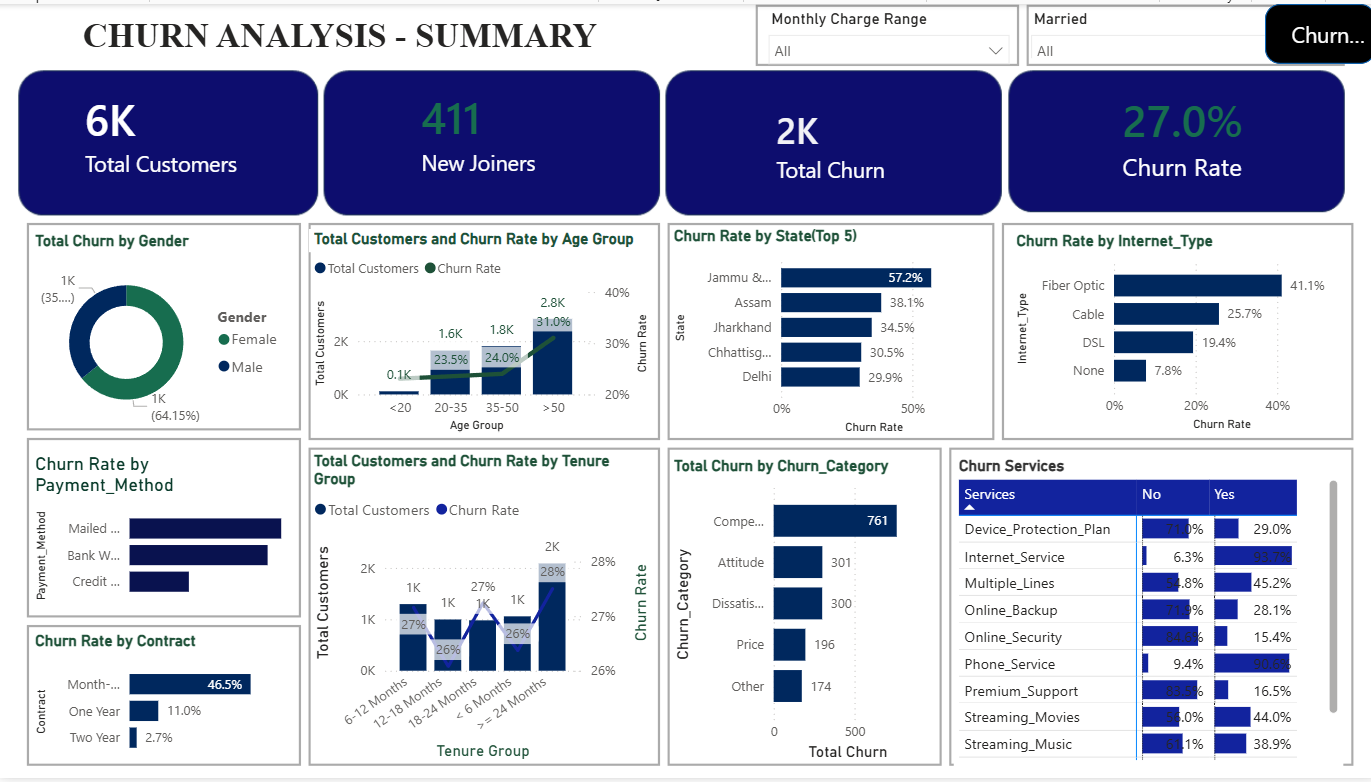

This screenshot's page, from the dashboard's own definition file:
{"tool":"powerbi","page":{"name":"Summary","canvas":[1280,720],"ordinal":0},"visuals":[{"type":"cardVisual","fields":{"Data":["tbl_Measures.Total Customers"]},"box":[50,60,223.3,120],"z":0},{"type":"cardVisual","fields":{"Data":["tbl_Measures.New Joiners"]},"box":[363.3,33.3,231.7,170],"z":1000},{"type":"cardVisual","fields":{"Data":["tbl_Measures.Total Churn"]},"box":[693.3,45,266.7,170],"z":2000},{"type":"cardVisual","fields":{"Data":["tbl_Measures.Churn Rate"]},"box":[1015,50,260,145],"z":3000},{"type":"donutChart","fields":{"Category":["prod_Churn.Gender"],"Y":["tbl_Measures.Total Churn"]},"box":[28.2,211.3,245.4,189.9],"z":4000},{"type":"lineStackedColumnComboChart","fields":{"Category":["mapping_AgeGrp.Age Group"],"Y":["tbl_Measures.Total Customers"],"Y2":["tbl_Measures.Churn Rate"]},"box":[287.8,208.9,321.7,193.9],"z":5000},{"type":"clusteredBarChart","fields":{"Category":["prod_Churn.Contract"],"Y":["tbl_Measures.Churn Rate"]},"box":[28.2,583.6,248.7,124.4],"z":6000},{"type":"lineStackedColumnComboChart","fields":{"Category":["mapping_TenureGrp.Tenure Group"],"Y":["tbl_Measures.Total Customers"],"Y2":["tbl_Measures.Churn Rate"]},"box":[287.8,416.7,321.7,291.7],"z":7000},{"type":"clusteredBarChart","title":"Churn Rate by State(Top 5)","fields":{"Category":["prod_Churn.State"],"Y":["tbl_Measures.Churn Rate"]},"box":[622.2,207.2,295,197.8],"z":8000},{"type":"clusteredBarChart","fields":{"Category":["prod_Churn.Churn_Category"],"Y":["tbl_Measures.Total Churn"]},"box":[622.2,420.6,251.1,287.8],"z":9000},{"type":"clusteredBarChart","fields":{"Category":["prod_Churn.Internet_Type"],"Y":["tbl_Measures.Churn Rate"]},"box":[941.1,211.1,313.9,190],"z":10000},{"type":"pivotTable","title":"Churn Services","fields":{"Rows":["prod_Services.Services"],"Columns":["prod_Services.Status"],"Values":["Sum(prod_Services.Churn Status)"]},"box":[887.2,420.6,362.8,287.8],"z":11000},{"type":"slicer","fields":{"Values":["prod_Churn.Monthly Charge Status"]},"box":[704.3,0,244.3,60],"z":12000},{"type":"slicer","fields":{"Values":["prod_Churn.Married"]},"box":[949.2,0,296.9,50],"z":13000},{"type":"textbox","box":[72,5.3,661.3,50.7],"z":14000},{"type":"shape","box":[1177.1,0,102.9,55.7],"z":15000},{"type":"clusteredBarChart","fields":{"Category":["prod_Churn.Payment_Method"],"Y":["tbl_Measures.Churn Rate"]},"box":[27.4,417.2,247,145.5],"z":16000}]}

Visuals, with their boxes in screenshot pixels (x1, y1, x2, y2), scaled from the page's 1280x720 canvas onto the 1371x782 screenshot:
cardVisual - tbl_Measures.Total Customers: x1=54 y1=65 x2=293 y2=195
cardVisual - tbl_Measures.New Joiners: x1=389 y1=36 x2=637 y2=221
cardVisual - tbl_Measures.Total Churn: x1=743 y1=49 x2=1028 y2=234
cardVisual - tbl_Measures.Churn Rate: x1=1087 y1=54 x2=1366 y2=212
donutChart - prod_Churn.Gender x tbl_Measures.Total Churn: x1=30 y1=229 x2=293 y2=436
lineStackedColumnComboChart - mapping_AgeGrp.Age Group x tbl_Measures.Total Customers: x1=308 y1=227 x2=653 y2=437
clusteredBarChart - prod_Churn.Contract x tbl_Measures.Churn Rate: x1=30 y1=634 x2=297 y2=769
lineStackedColumnComboChart - mapping_TenureGrp.Tenure Group x tbl_Measures.Total Customers: x1=308 y1=453 x2=653 y2=769
"Churn Rate by State(Top 5)" clusteredBarChart: x1=666 y1=225 x2=982 y2=440
clusteredBarChart - prod_Churn.Churn_Category x tbl_Measures.Total Churn: x1=666 y1=457 x2=935 y2=769
clusteredBarChart - prod_Churn.Internet_Type x tbl_Measures.Churn Rate: x1=1008 y1=229 x2=1344 y2=436
"Churn Services" pivotTable: x1=950 y1=457 x2=1339 y2=769
slicer - prod_Churn.Monthly Charge Status: x1=754 y1=0 x2=1016 y2=65
slicer - prod_Churn.Married: x1=1017 y1=0 x2=1335 y2=54
textbox: x1=77 y1=6 x2=785 y2=61
shape: x1=1261 y1=0 x2=1370 y2=60
clusteredBarChart - prod_Churn.Payment_Method x tbl_Measures.Churn Rate: x1=29 y1=453 x2=294 y2=611
